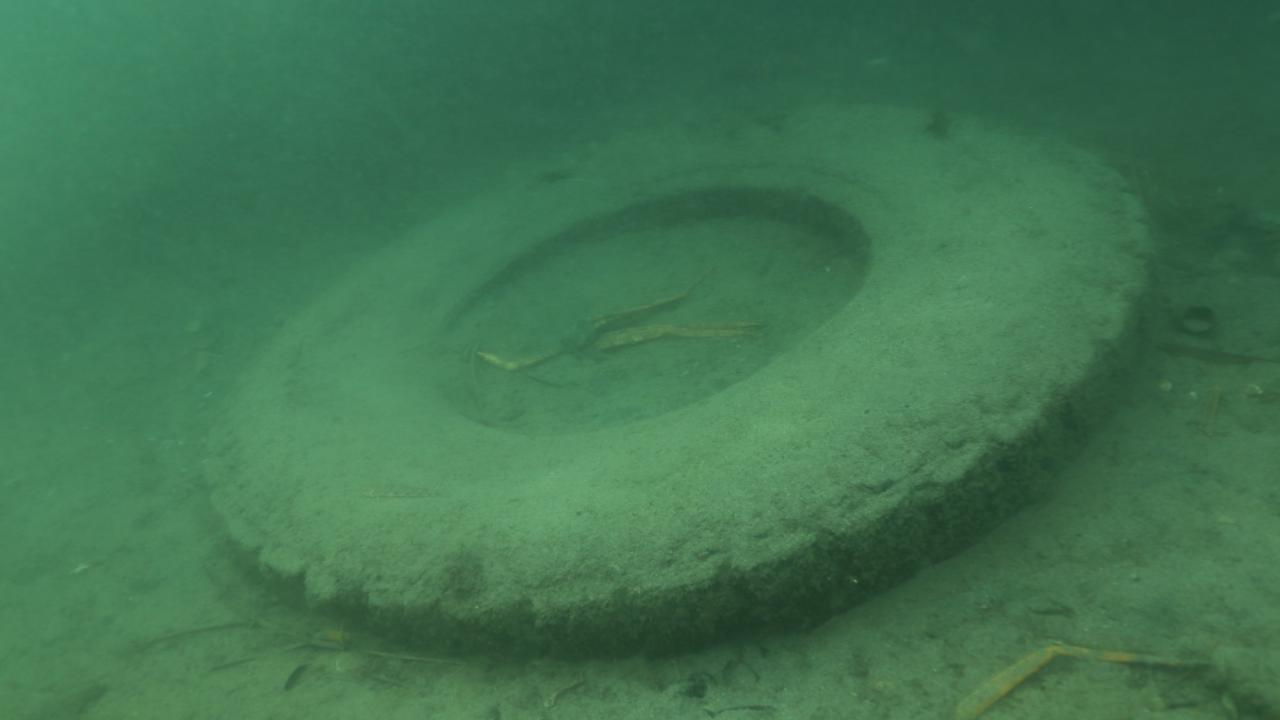tire: (196, 99, 1154, 655)
